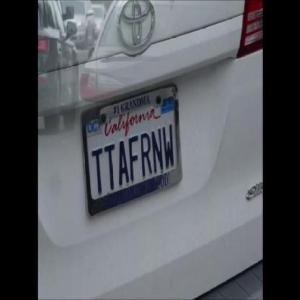Plate: (82, 81, 185, 224)
